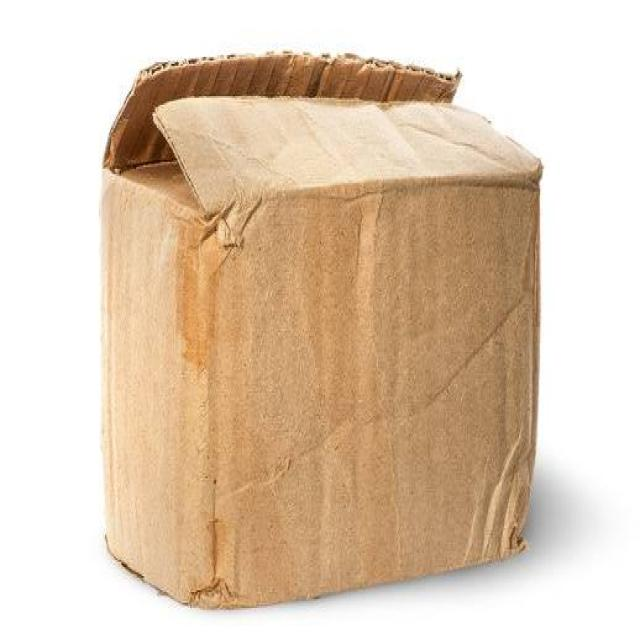cardboard: (78, 41, 586, 632)
